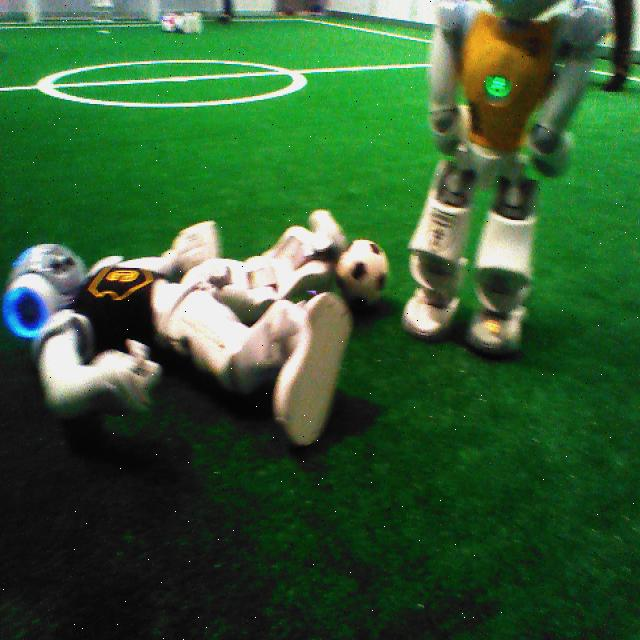ball: (322, 227, 393, 313)
goalpost: (24, 0, 42, 23), (147, 0, 161, 20)
